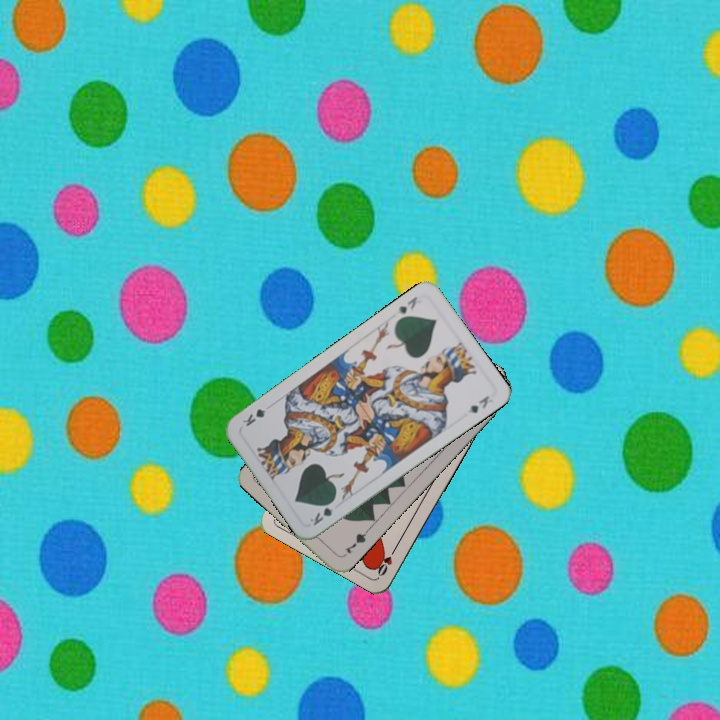G7: (341, 526, 370, 556)
GK: (306, 496, 338, 528), (393, 292, 420, 316)
HO: (373, 542, 400, 579)
